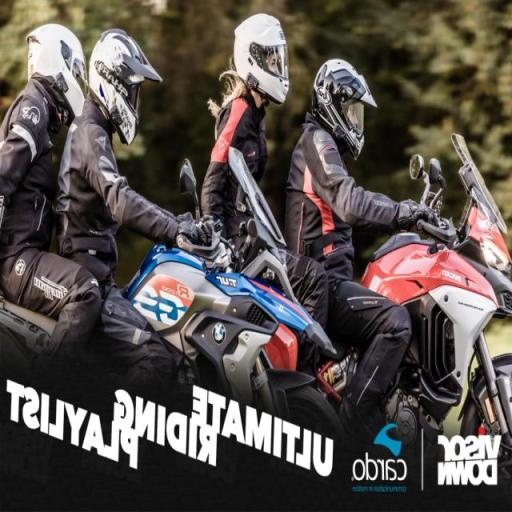Helmet: (89, 29, 161, 144), (312, 60, 376, 158), (27, 24, 86, 123), (234, 14, 288, 103)
Motor: (127, 141, 512, 475)
